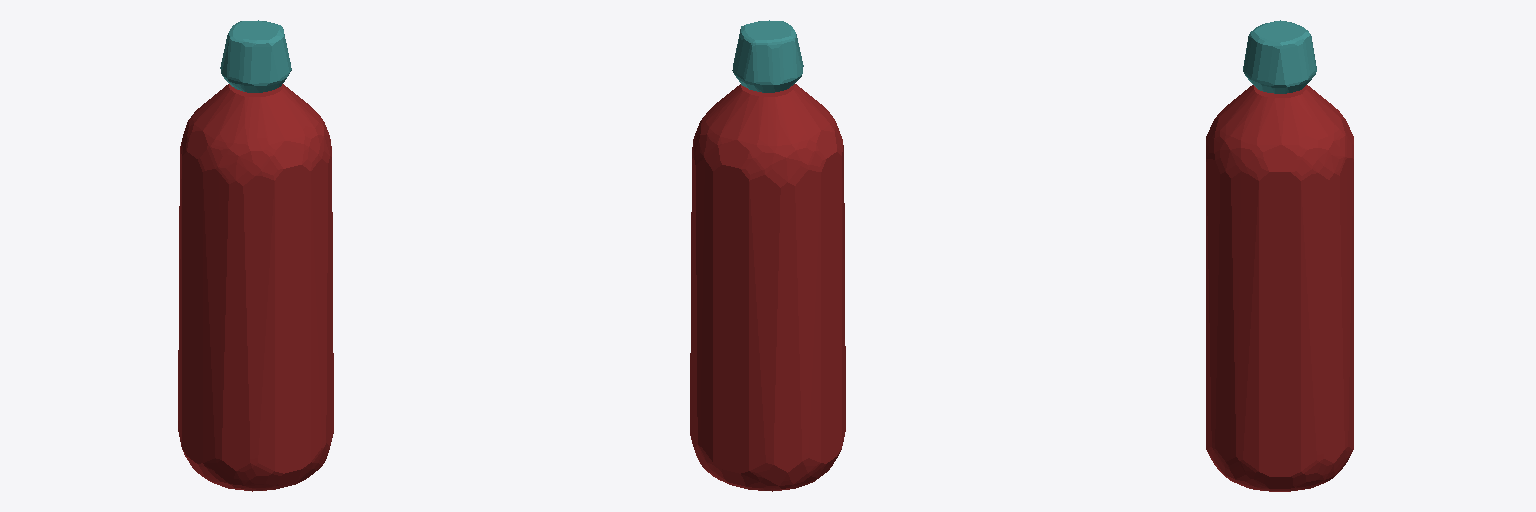
The robot description file, URDF, robot "root":
<robot name="root">
  <link name="bottle_body">
    <inertial>
      <origin xyz="0 0 0" rpy="0 0 0"/>
    </inertial>
    <mass value="1.00E-02"/>
    <visual>
      <origin xyz="0 0 0" rpy="0 0 0"/>
      <geometry>
        <mesh filename="core-bottle-726a6ce68bcb4b2d14513156cf2b8d0d-coacd_convex_piece_1.obj" scale="1.0000E-01 1.0000E-01 1.0000E-01"/>
      </geometry>
      <material name="">
        <color rgba="6.00E-01 2.00E-01 2.00E-01 1"/>
      </material>
    </visual>
    <collision>
      <origin xyz="0 0 0" rpy="0 0 0"/>
      <geometry>
        <mesh filename="core-bottle-726a6ce68bcb4b2d14513156cf2b8d0d-coacd_convex_piece_1.obj" scale="1.0000E-01 1.0000E-01 1.0000E-01"/>
      </geometry>
    </collision>
  </link>
  <link name="bottle_cap">
    <origin xyz="0 0 0.002" rpy="0 0 0"/>
    <mass value="1.00E-02"/>
    <visual>
      <origin xyz="0 0 0.002" rpy="0 0 0"/>
      <geometry>
        <mesh filename="core-bottle-726a6ce68bcb4b2d14513156cf2b8d0d-coacd_convex_piece_0.obj" scale="1.0000E-01 1.0000E-01 1.0000E-01"/>
      </geometry>
      <material name="">
        <color rgba="3.00E-01 6.00E-01 6.00E-01 1"/>
      </material>
    </visual>
    <collision>
      <origin xyz="0 0 0.002" rpy="0 0 0"/>
      <geometry>
        <mesh filename="core-bottle-726a6ce68bcb4b2d14513156cf2b8d0d-coacd_convex_piece_0.obj" scale="1.0000E-01 1.0000E-01 1.0000E-01"/>
      </geometry>
    </collision>
  </link>
  <joint name="bottle_cap_joint" type="revolute">
    <origin xyz="0 0 0" rpy="0 0 0"/>
    <parent link="bottle_body"/>
    <child link="bottle_cap"/>
    <axis xyz="0 0 1"/>
    <limit lower="0.00" upper="6.28"/>
    <dynamics damping="0.05"/>
  </joint>
</robot>

--- Facts derived from the render (not from the file) ---
3 views of the same robot in one strip: view 1: azimuth 30°, elevation 25°; view 2: azimuth 150°, elevation 25°; view 3: azimuth 270°, elevation 25° (orthographic).
Robot: root — 2 links, 1 joints (1 revolute); root link bottle_body; default pose: all joints at 0.
Visible links, largest first — view 1: bottle_body, bottle_cap; view 2: bottle_body, bottle_cap; view 3: bottle_body, bottle_cap.
Link boxes in pixels (x1=…): bottle_body: x1=178, y1=84, x2=333, y2=491; bottle_cap: x1=220, y1=20, x2=291, y2=92; bottle_body: x1=690, y1=84, x2=845, y2=491; bottle_cap: x1=732, y1=20, x2=803, y2=92; bottle_body: x1=1206, y1=85, x2=1353, y2=491; bottle_cap: x1=1243, y1=20, x2=1316, y2=93.
Size in the robot's own frame: 0.0594 by 0.0594 by 0.1972 metres.
2 mesh visuals loaded from 2 distinct referenced files (2 OBJ).